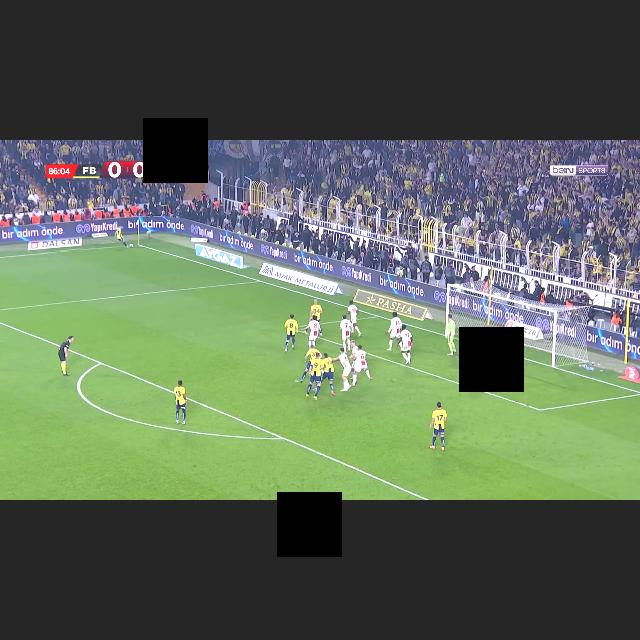billboard: (187, 220, 639, 360), (0, 217, 188, 244), (259, 262, 339, 295), (353, 289, 427, 320), (195, 244, 240, 268), (27, 236, 81, 251), (503, 320, 538, 339), (190, 237, 207, 242)
